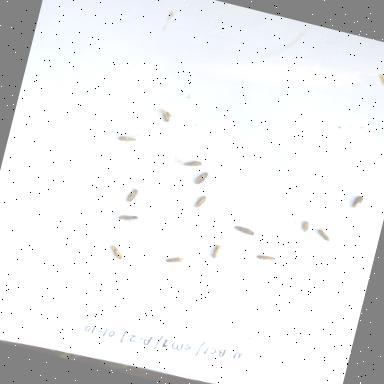pbw: (228, 223, 256, 242), (252, 249, 280, 267), (164, 248, 188, 268), (114, 209, 140, 227), (208, 239, 227, 263), (191, 168, 212, 189), (105, 242, 127, 262), (180, 155, 205, 172), (114, 130, 138, 146), (122, 183, 140, 204), (348, 192, 366, 212), (157, 107, 175, 125), (314, 226, 332, 243), (192, 192, 208, 211), (296, 218, 314, 234)
